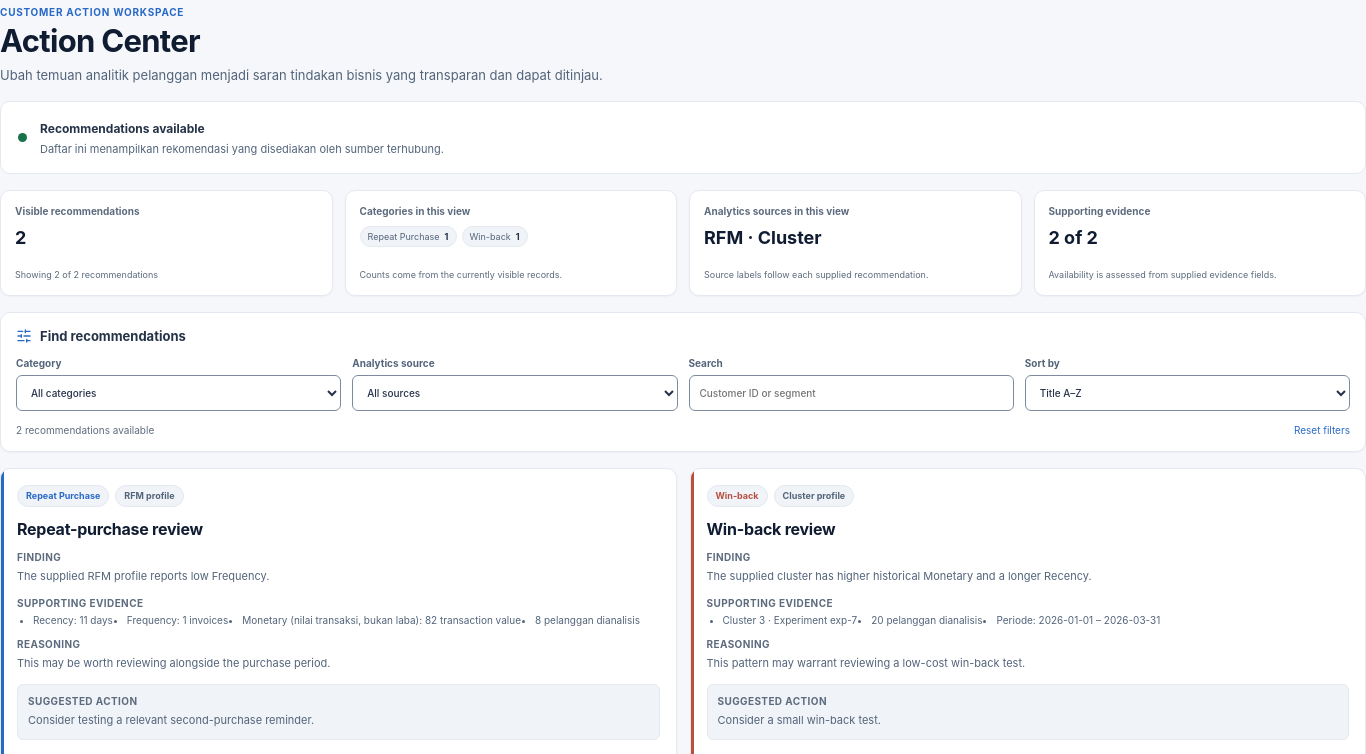
Action Center page › searches supplied customer IDs and segments and supports reset
Check: the heading "Win-back review" is shown, box [706,519,835,539]
Type "CUS-22" into the search field named "Search recommendations" at point(851, 393), box [688,375,1014,411]
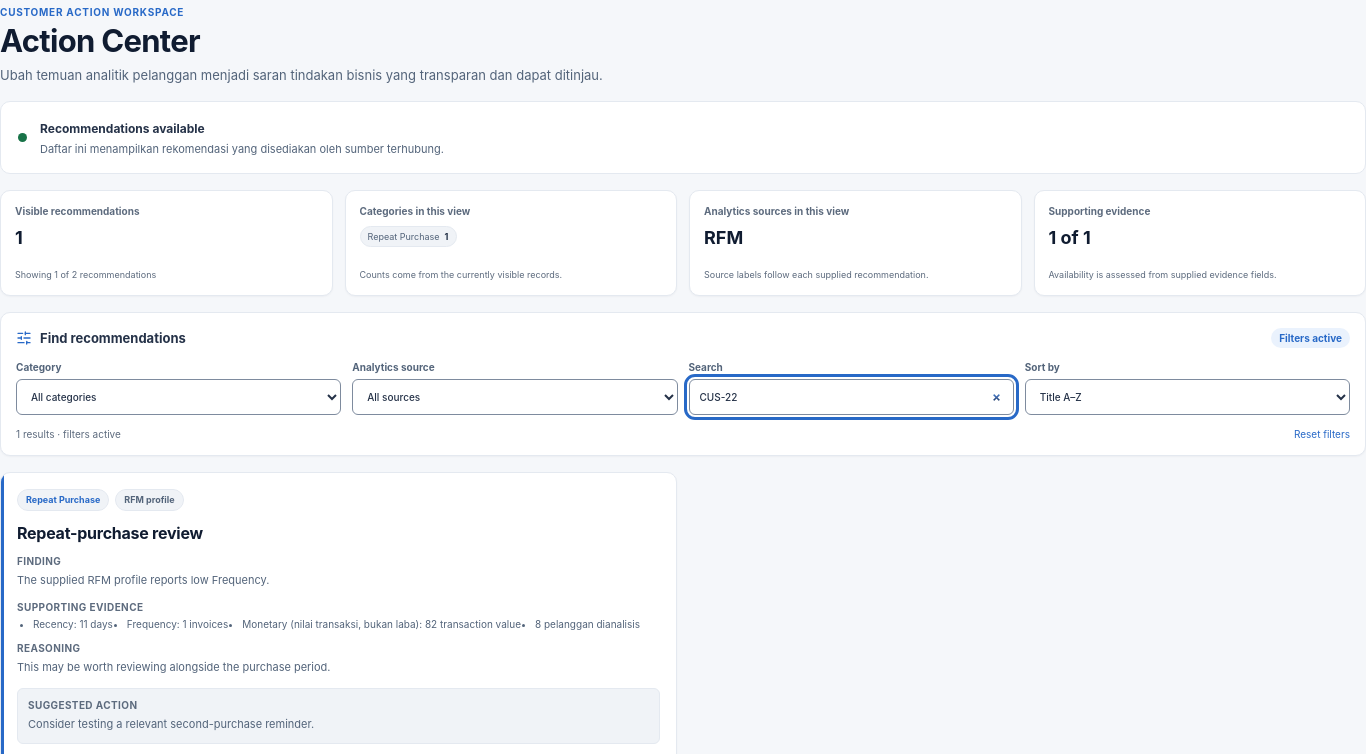
Check: the heading "Repeat-purchase review" is shown, box [17,523,203,543]
Check: the heading "Win-back review" is gone
Click the button "Reset filters" at point(1322, 434), box [1294,428,1350,440]
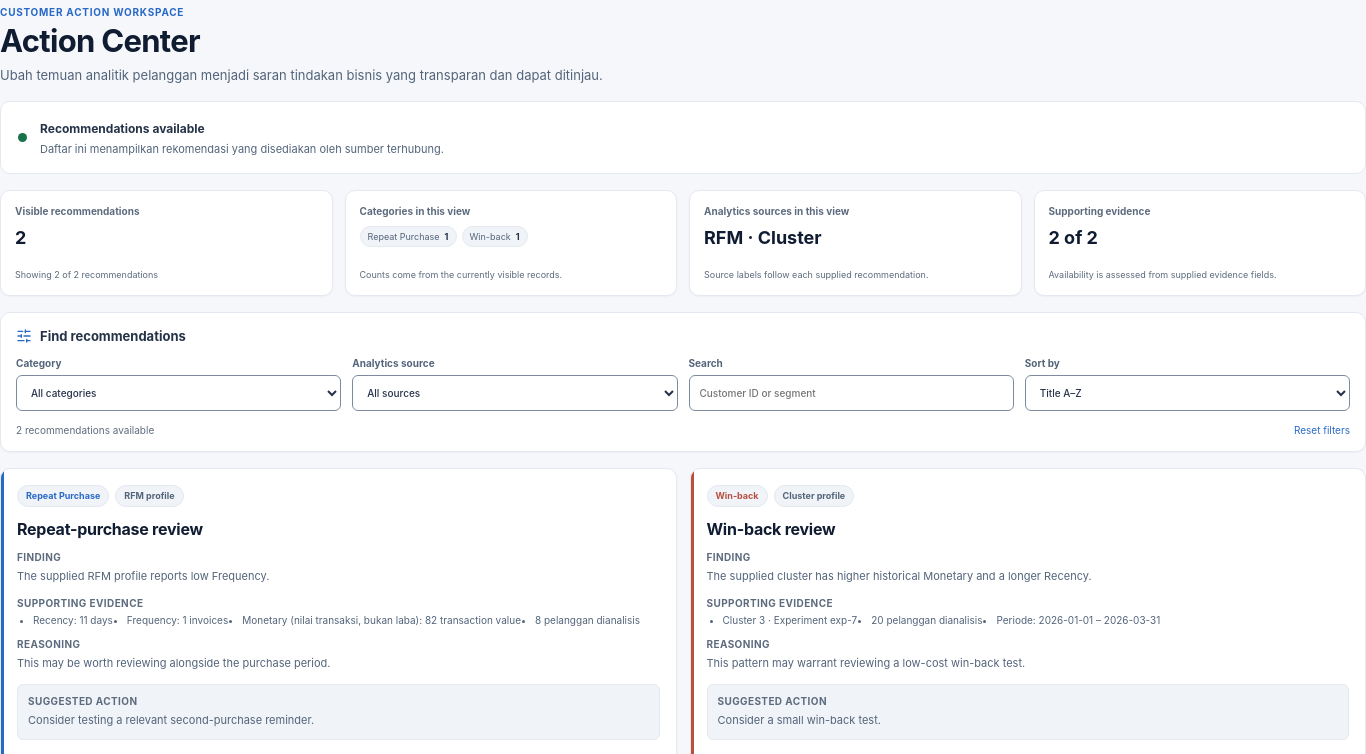
Check: the heading "Win-back review" is shown, box [706,519,835,539]
Check: the search field named "Search recommendations" is empty, box [688,375,1014,411]
